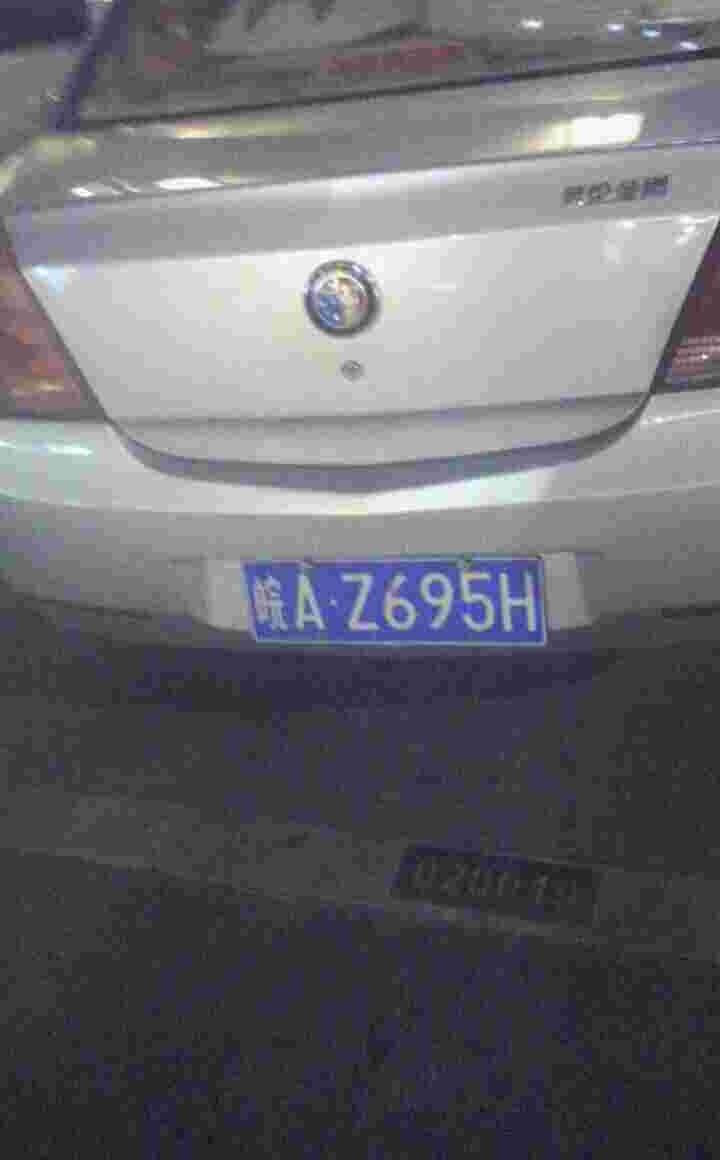license_plate: (241, 551, 544, 631)
